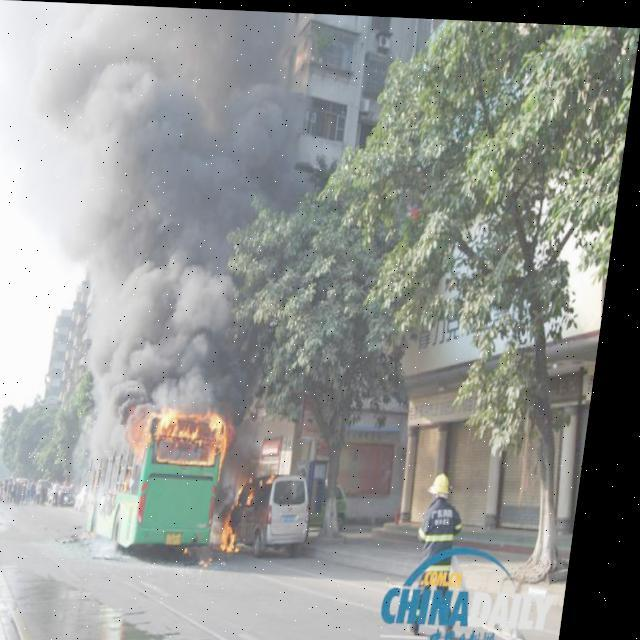Fire: (119, 382, 248, 480), (232, 470, 292, 555)
